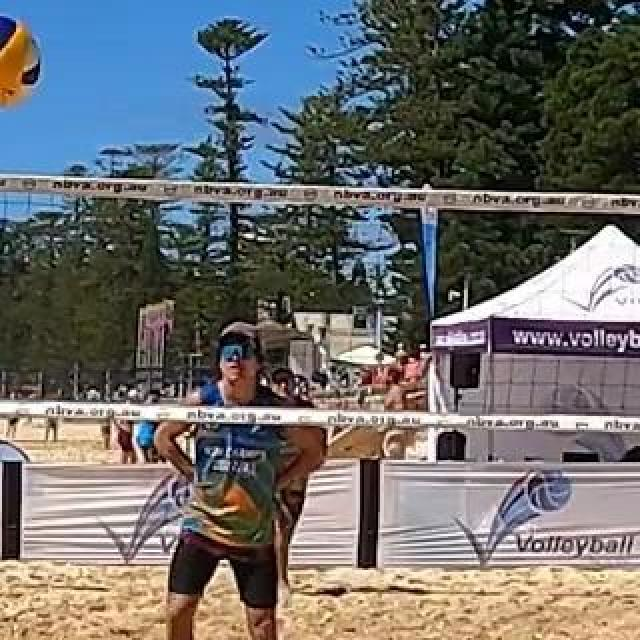volleyball: (1, 19, 43, 101)
